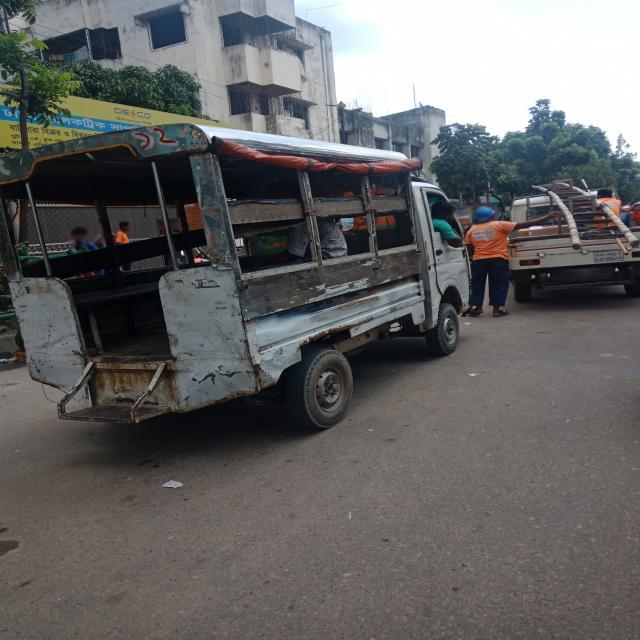Leguna: (1, 121, 460, 437)
